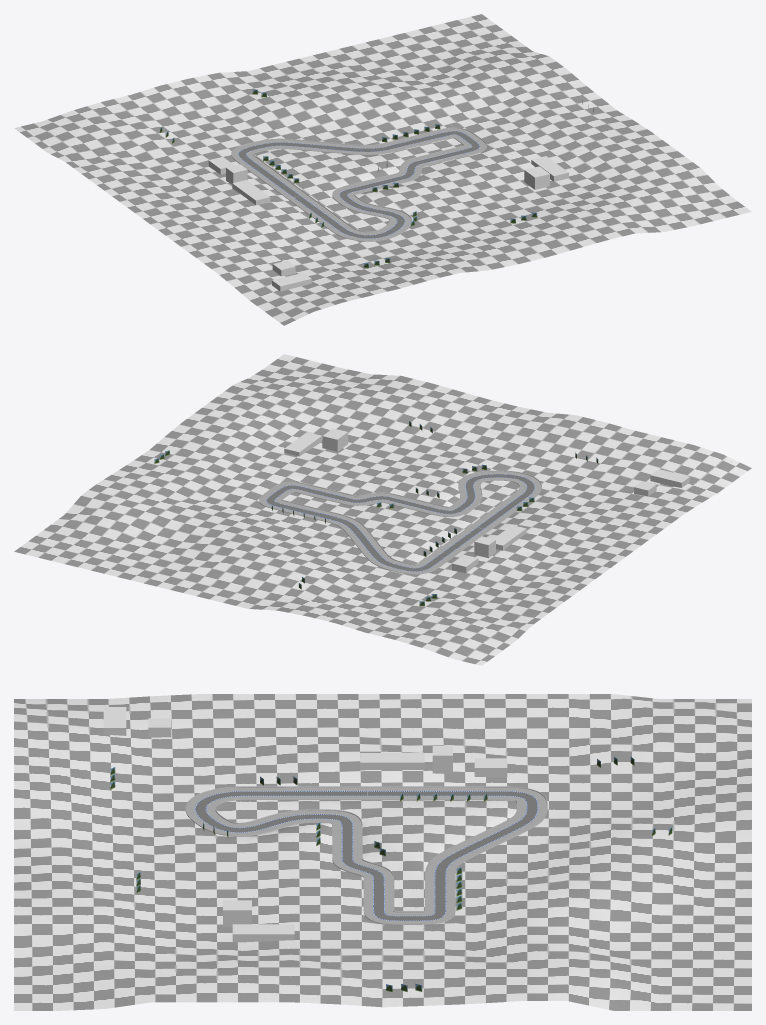
Rendered from trk.fbx.
3 renders of one model, top to bottom at view 1: azimuth 30°, elevation 25°; view 2: azimuth 150°, elevation 25°; view 3: azimuth 270°, elevation 25°, orthographic. The views are drawn at different scales.
Parts seen in each view (by area): view 1: _lndscp, _offtrack, _trk, _trk_wll, _crbs, bldng1.002; view 2: _lndscp, _offtrack, _trk, _trk_wll, _crbs, bldng1.004; view 3: _lndscp, _offtrack, _trk, _trk_wll, _crbs, bldng1.004, bldng1.002, bldng1.003, bldng1.005, bldng1, bldng1.001.
Part boxes in pixels (x1,y1,x2,y2): _lndscp: [14, 14, 751, 325]; _offtrack: [231, 128, 486, 240]; _trk: [239, 131, 479, 238]; _trk_wll: [231, 127, 486, 241]; _crbs: [238, 131, 480, 238]; bldng1.002: [232, 180, 270, 204]; _lndscp: [14, 354, 751, 665]; _offtrack: [259, 471, 541, 573]; _trk: [267, 474, 534, 571]; _trk_wll: [259, 470, 541, 574]; _crbs: [266, 474, 534, 571]; bldng1.004: [284, 432, 321, 456]; _lndscp: [14, 694, 751, 1010]; _offtrack: [186, 787, 546, 923]; _trk: [195, 791, 537, 920]; _trk_wll: [185, 786, 547, 924]; _crbs: [194, 791, 538, 920]; bldng1.004: [232, 924, 294, 942]; bldng1.002: [360, 753, 424, 770]; bldng1.003: [223, 900, 251, 927]; bldng1.005: [103, 707, 126, 735]; bldng1: [474, 758, 507, 777]; bldng1.001: [432, 746, 452, 774].
Bounding box in the file's own units: 749 × 26.63 × 749.
13 materials, 13 textured.
